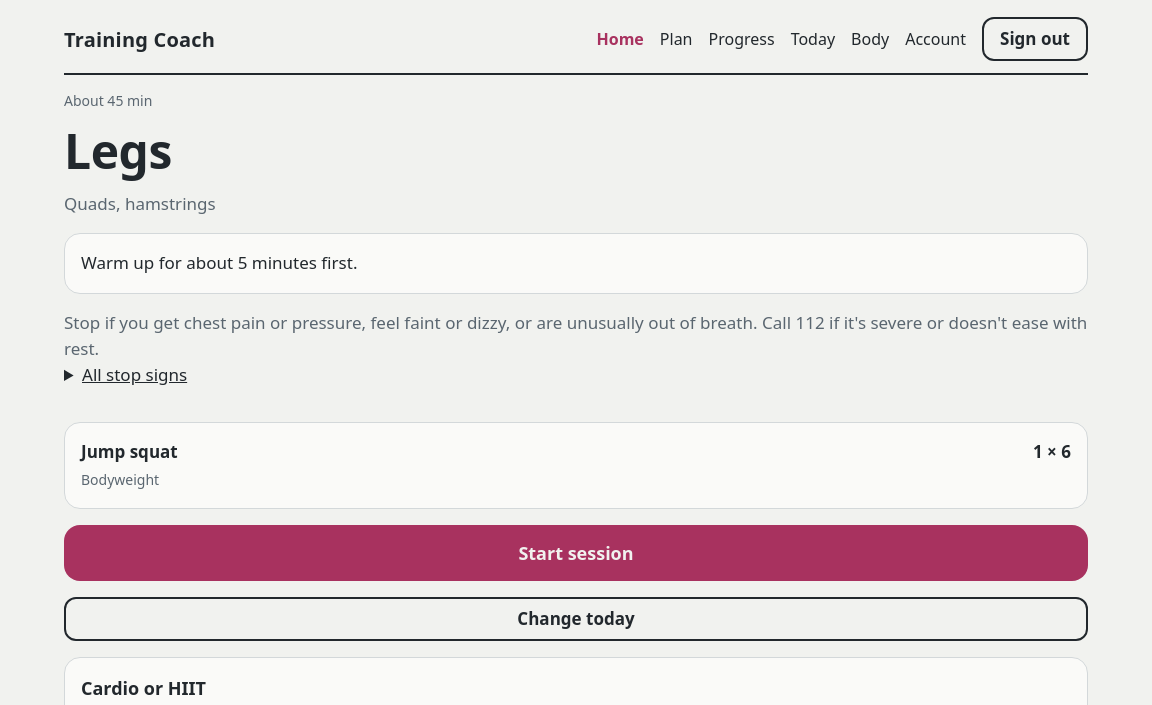
Scenario: doing the next one first swaps the queue
Click the button "Change today": click(576, 619) x1=64 y1=597 x2=1088 y2=641
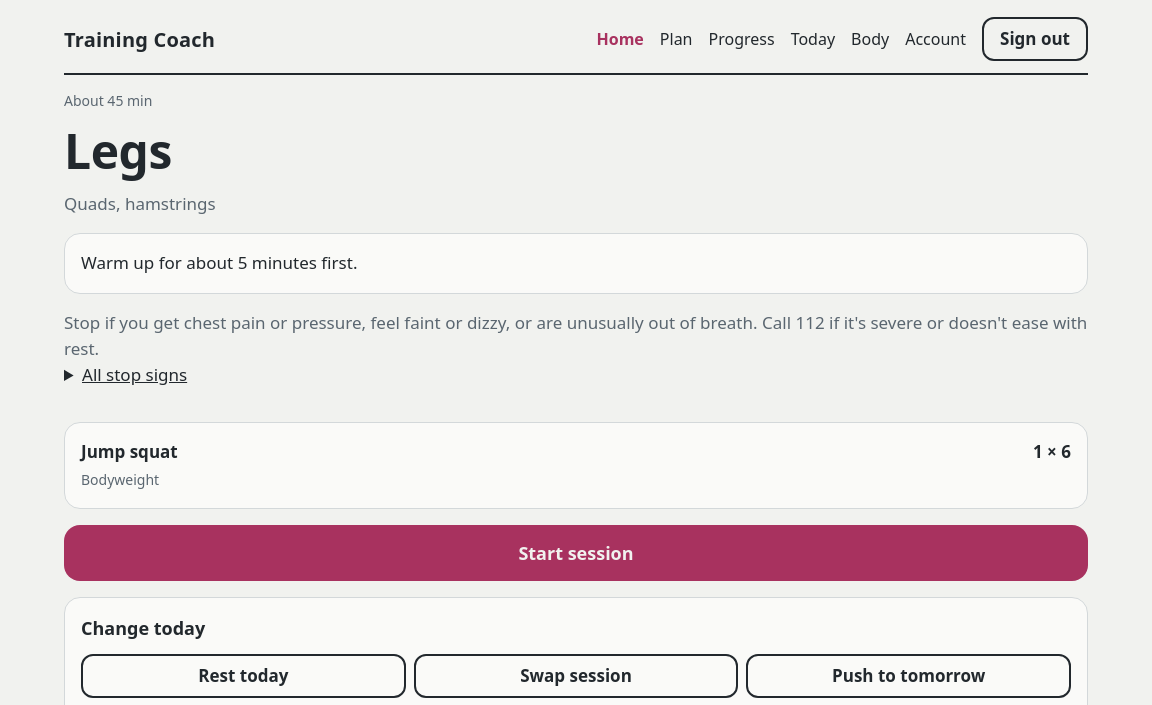
Click the button "Swap session": click(576, 676) x1=414 y1=654 x2=738 y2=698
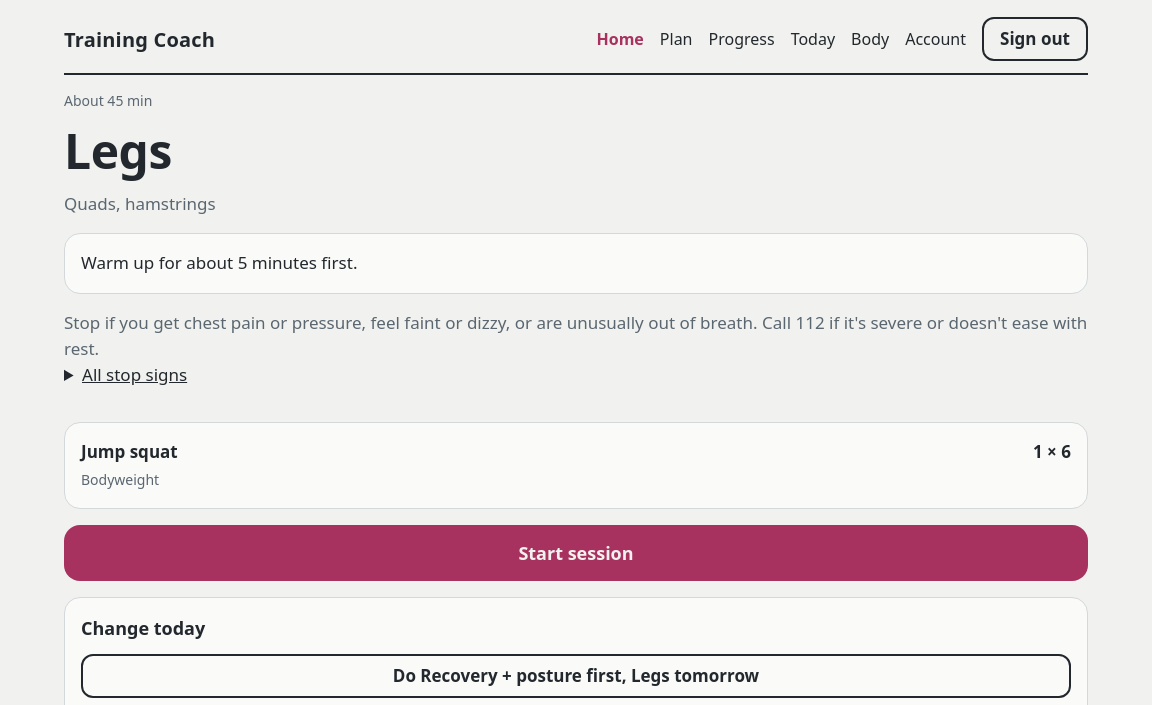
Click the button "Do Recovery + posture first, Legs tomorrow": click(576, 676) x1=81 y1=654 x2=1071 y2=698
(page scrolled)
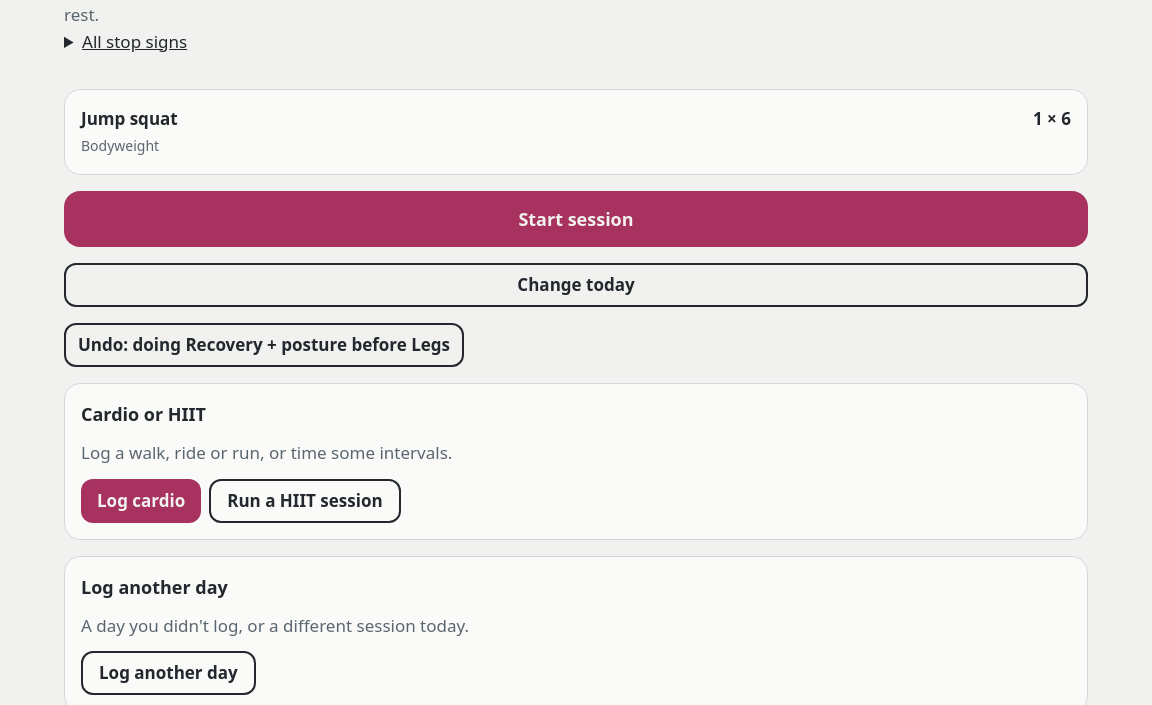
Now the button "Undo: doing Recovery + posture before Legs" is shown, box x1=64 y1=323 x2=464 y2=367
